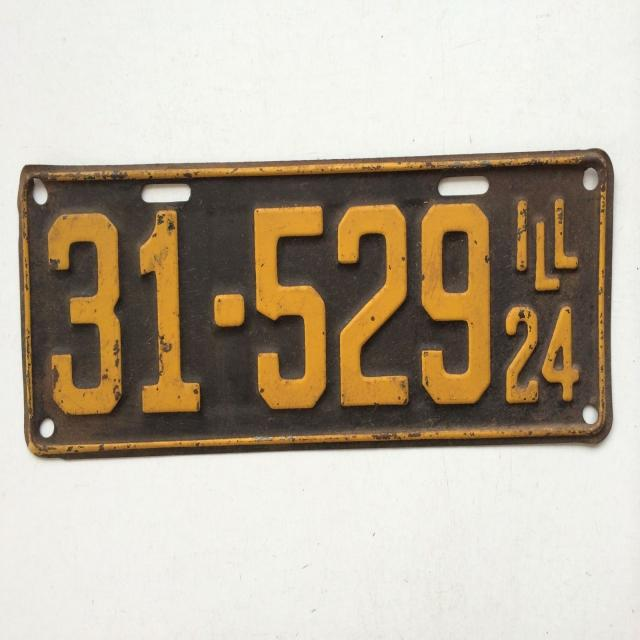placa: (21, 200, 502, 426)
